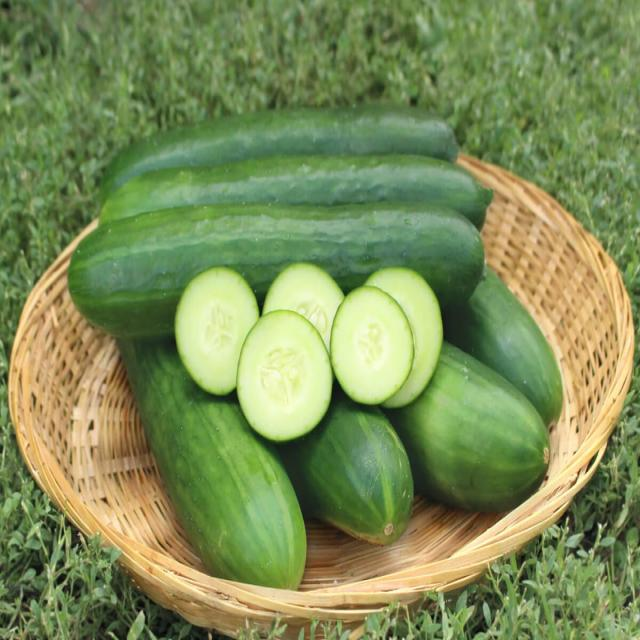Pickle: (69, 204, 484, 338), (120, 339, 305, 590), (99, 105, 458, 203), (99, 156, 494, 230), (386, 343, 550, 512), (278, 384, 414, 545), (444, 268, 564, 428), (236, 309, 332, 442), (175, 268, 259, 396), (365, 268, 442, 407), (330, 287, 414, 405), (262, 262, 344, 352)
